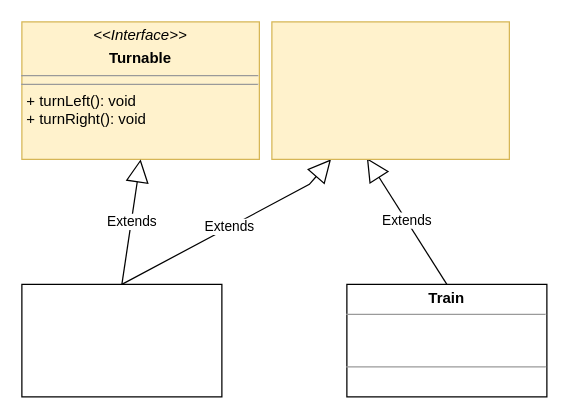
The diagram is 569 pixels wide and 419 high, and some of its shapes have lost their labels. Each missing label, with the centre of its shape:
"<<Interface>> Driveable + goForward(): void + goBackwards(): void" goes at (x=390, y=90).
"Car" goes at (x=121, y=340).
